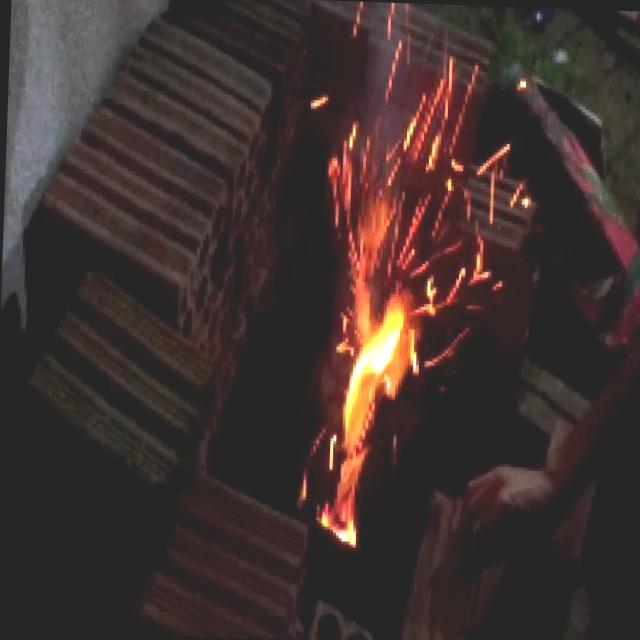fire: (268, 22, 507, 572)
